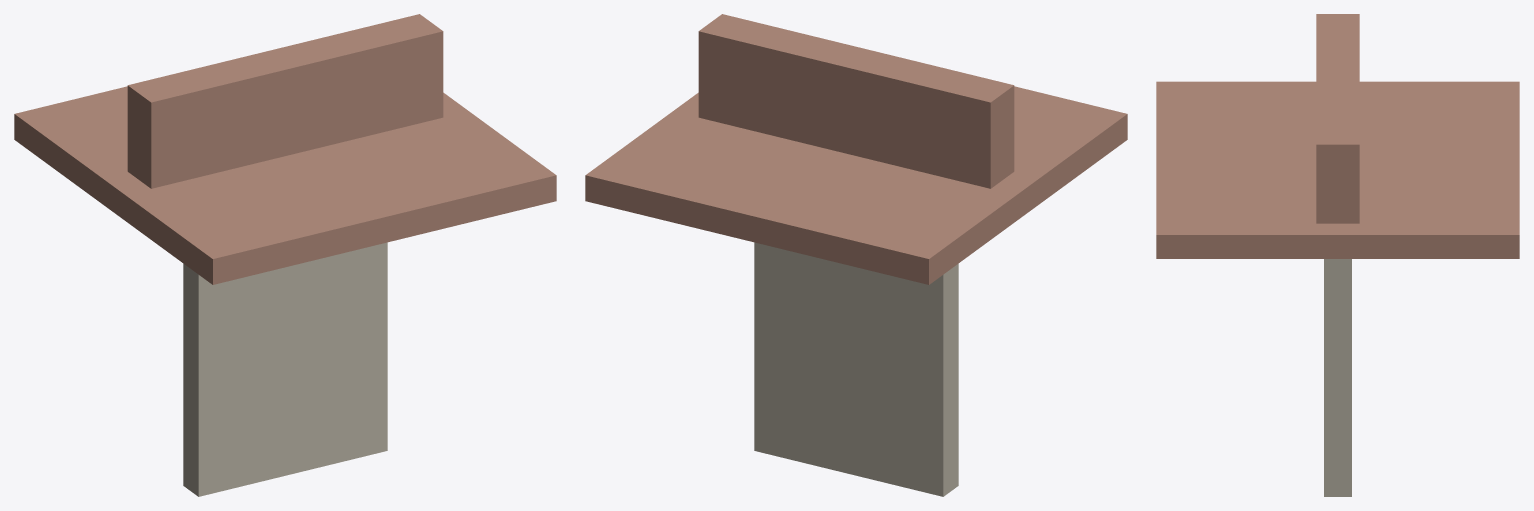
Rendered from iz3_historic_detail_04.glb.
The picture shows the model from 3 angles, left to right: view 1: azimuth 30°, elevation 25°; view 2: azimuth 150°, elevation 25°; view 3: azimuth 270°, elevation 25°; orthographic projection. The views are drawn at different scales.
Parts seen in each view (by area): view 1: balcony, shaft, crown; view 2: balcony, shaft, crown; view 3: balcony, crown, shaft.
Boxes of the visible parts, x1=… form: balcony: x1=14, y1=86, x2=556, y2=284; shaft: x1=183, y1=242, x2=387, y2=496; crown: x1=127, y1=14, x2=443, y2=188; balcony: x1=585, y1=86, x2=1127, y2=284; shaft: x1=754, y1=242, x2=958, y2=496; crown: x1=698, y1=14, x2=1014, y2=188; balcony: x1=1156, y1=81, x2=1519, y2=258; crown: x1=1316, y1=14, x2=1359, y2=223; shaft: x1=1324, y1=259, x2=1351, y2=496.
Size of the model in its own units: 2.5 by 2.85 by 2.5.
